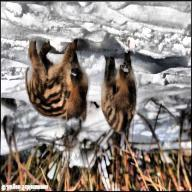boar: (35, 40, 103, 130), (94, 54, 155, 142)
